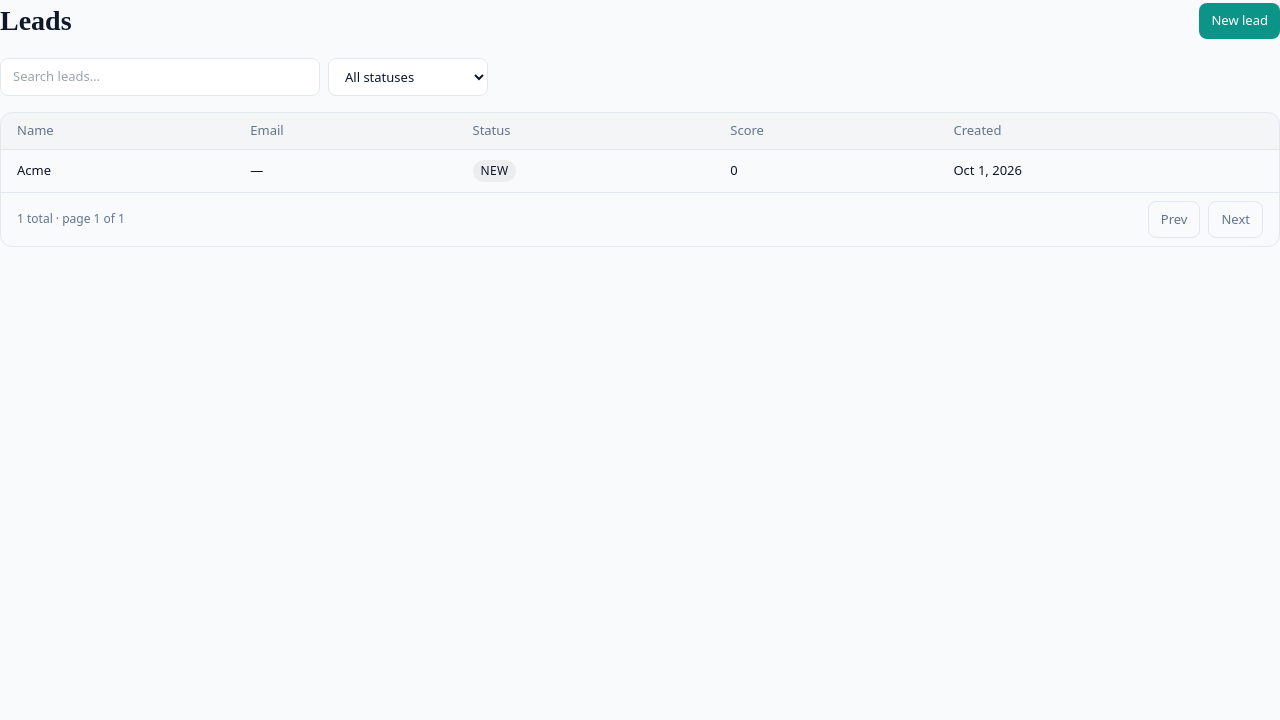
it: Leads when the API answers 400 › save: shows the error, keeps the dialog and the typed value, and the table still shows the saved name
The image size is (1280, 720).
Click the cell "Acme" at point(34, 170), box [1,149,234,192]
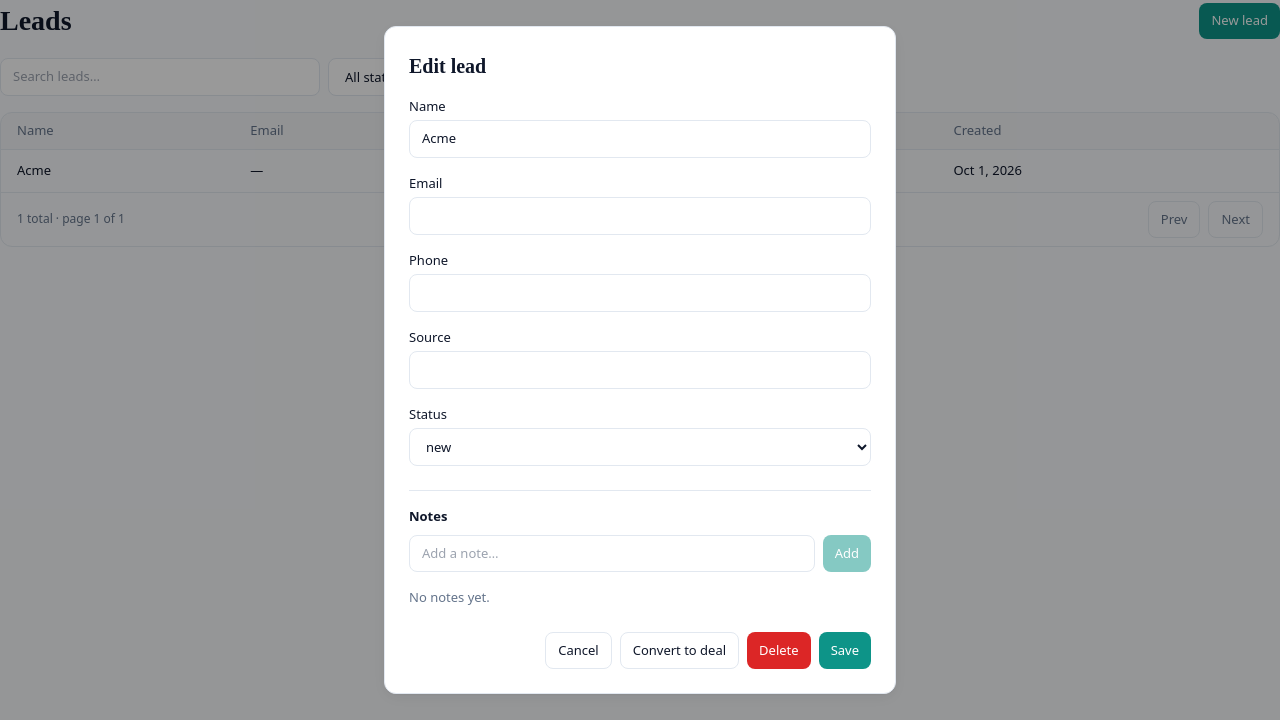
Replace the text in the field labelled "Name" with "Acme renamed" at point(640, 139), box [409,120,871,158]
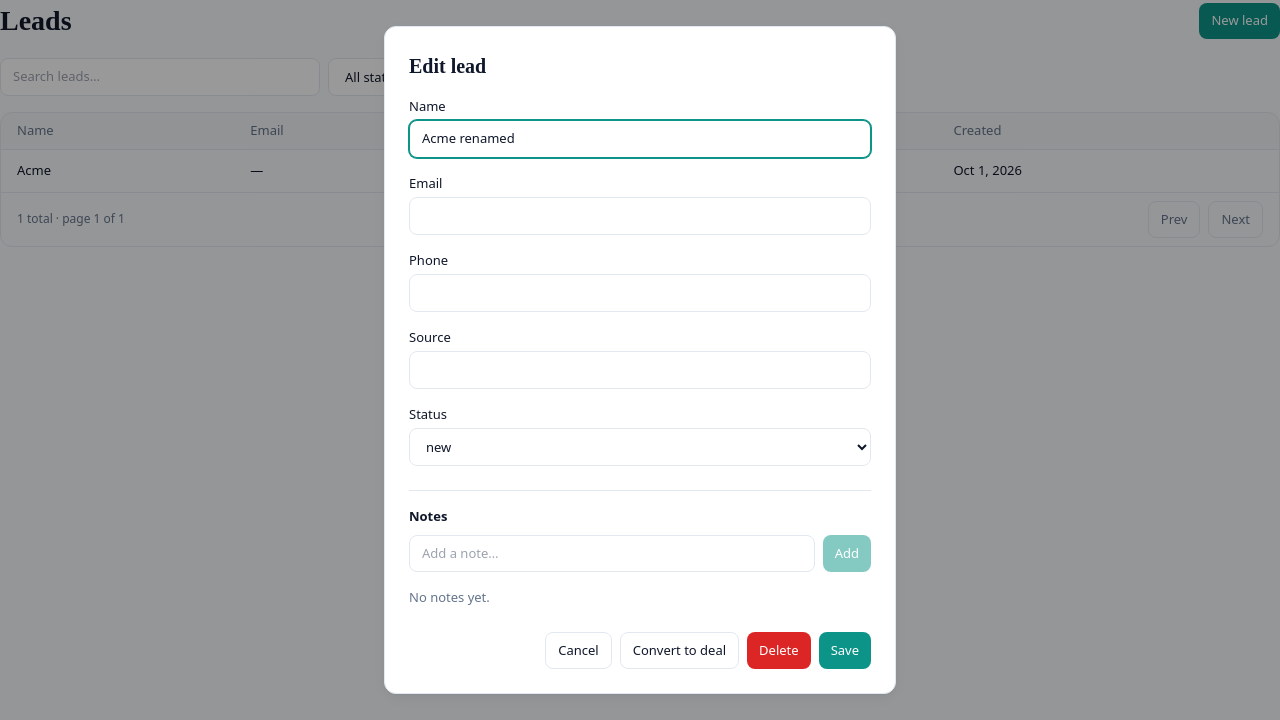
Click the button "Save" at point(845, 651), box [819,632,871,669]
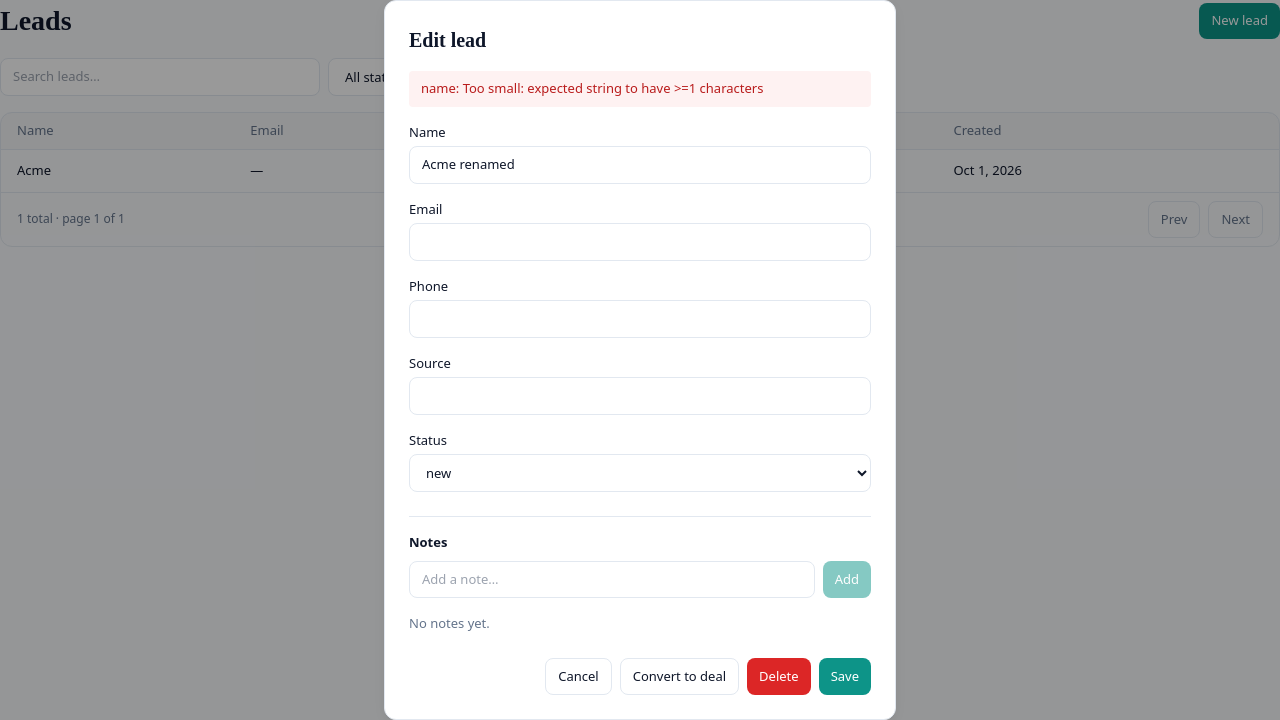
Expected: the cell "Acme" is shown, [1,149,234,192]
Result: the message reads "name: Too small: expected string to have >=1 characters" at [421,79,763,97]
